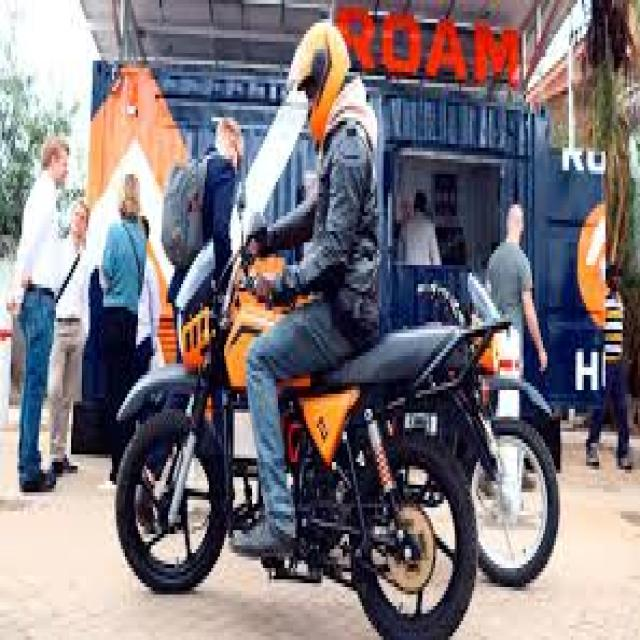bodaboda: (68, 177, 513, 640)
